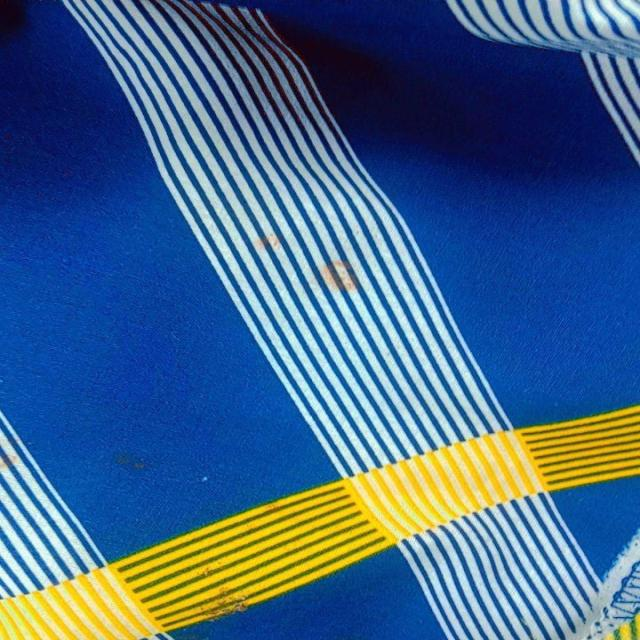stain: (101, 439, 179, 480), (305, 255, 377, 296), (246, 223, 294, 254)
